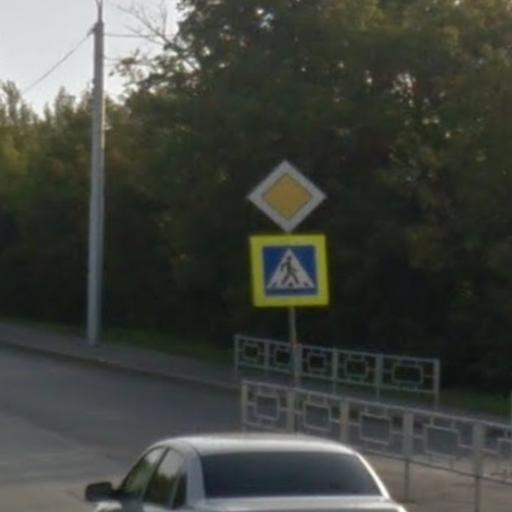traffic_sign: (243, 155, 336, 242), (251, 235, 329, 309)
